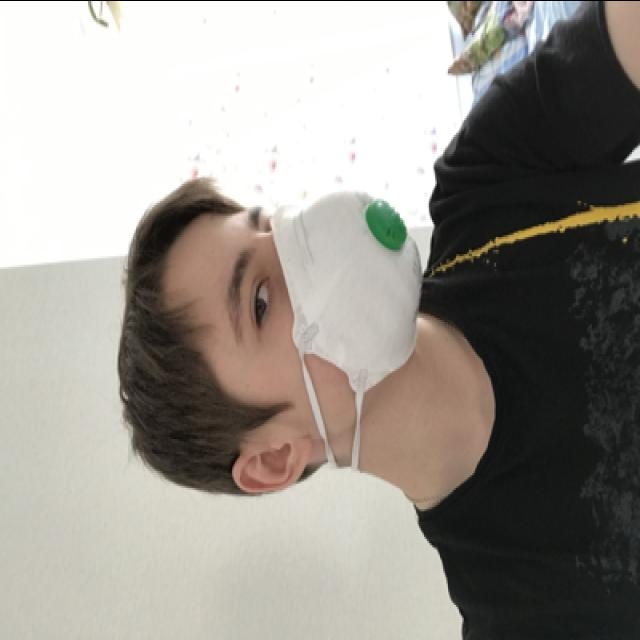mask: (192, 190, 421, 378)
